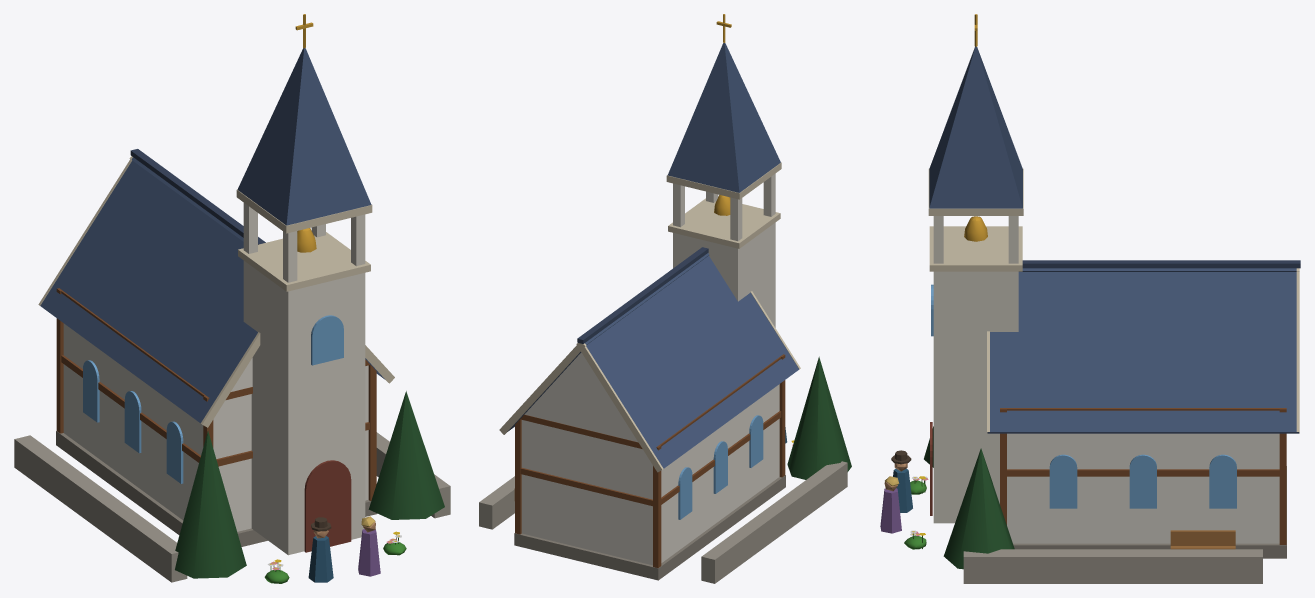
File: chapel.glb
3 views of the same model, side by side, from view 1: azimuth 30°, elevation 25°; view 2: azimuth 150°, elevation 25°; view 3: azimuth 270°, elevation 25° (orthographic). The views are drawn at different scales.
Parts seen in each view (by area): view 1: town-chapel; view 2: town-chapel; view 3: town-chapel.
Boxes of the visible parts, bbox=[...] form: town-chapel: bbox=[14, 14, 450, 583]; town-chapel: bbox=[479, 14, 851, 583]; town-chapel: bbox=[880, 14, 1300, 583].
Bounding box in the file's own units: 6.15 × 11.15 × 8.42.
